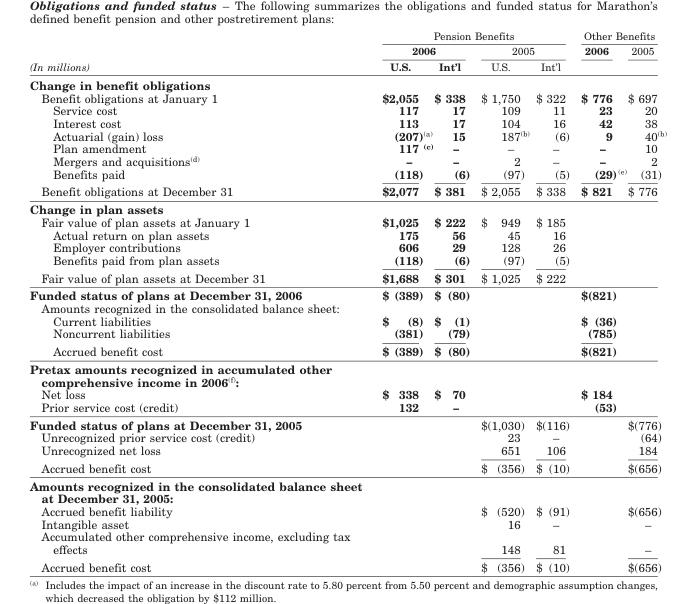table: (28, 28, 665, 573)
table column: (28, 28, 365, 573), (365, 28, 433, 573), (474, 28, 531, 573), (574, 28, 626, 573), (531, 28, 574, 573), (433, 28, 474, 573), (626, 28, 665, 573)
table column header: (28, 28, 665, 74)
table projected row header: (28, 359, 665, 387), (28, 476, 665, 504), (28, 74, 665, 91), (28, 200, 665, 215), (28, 301, 665, 314)
table row: (28, 359, 665, 387), (28, 476, 665, 504), (28, 529, 665, 557), (28, 182, 665, 200), (28, 268, 665, 286), (28, 341, 665, 359), (28, 458, 665, 476), (28, 74, 665, 91), (28, 42, 665, 58), (28, 58, 665, 74), (28, 166, 665, 182), (28, 557, 665, 573), (28, 200, 665, 215), (28, 253, 665, 268), (28, 286, 665, 301), (28, 326, 665, 341), (28, 400, 665, 415), (28, 415, 665, 430), (28, 443, 665, 458), (28, 28, 665, 42), (28, 103, 665, 116), (28, 116, 665, 129), (28, 141, 665, 154), (28, 227, 665, 240), (28, 240, 665, 253), (28, 301, 665, 314), (28, 387, 665, 400), (28, 430, 665, 443), (28, 504, 665, 517), (28, 91, 665, 103), (28, 129, 665, 141), (28, 154, 665, 166), (28, 215, 665, 227), (28, 314, 665, 326), (28, 517, 665, 529)
table spanning cell: (28, 28, 365, 74), (365, 28, 574, 42), (365, 42, 474, 58), (574, 42, 626, 74), (474, 42, 574, 58), (574, 28, 665, 42), (626, 42, 665, 74)
